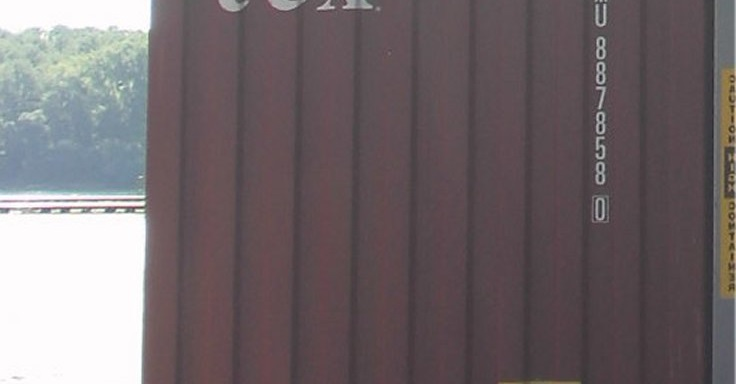container_no_door: (147, 1, 710, 381)
